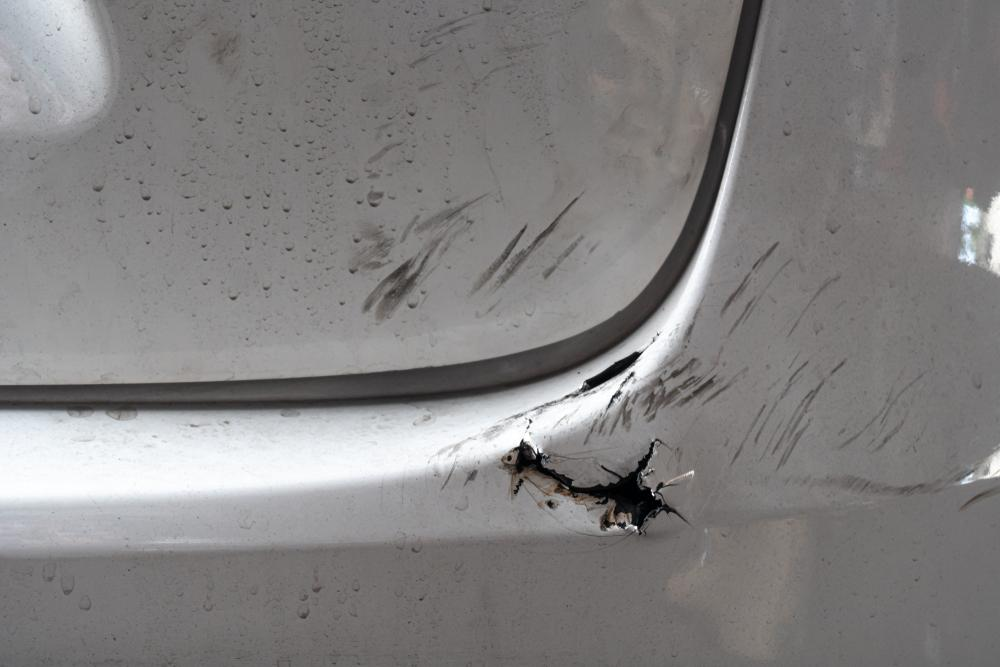crack: (503, 343, 690, 534)
scratch: (596, 230, 1000, 518), (334, 179, 633, 319)
